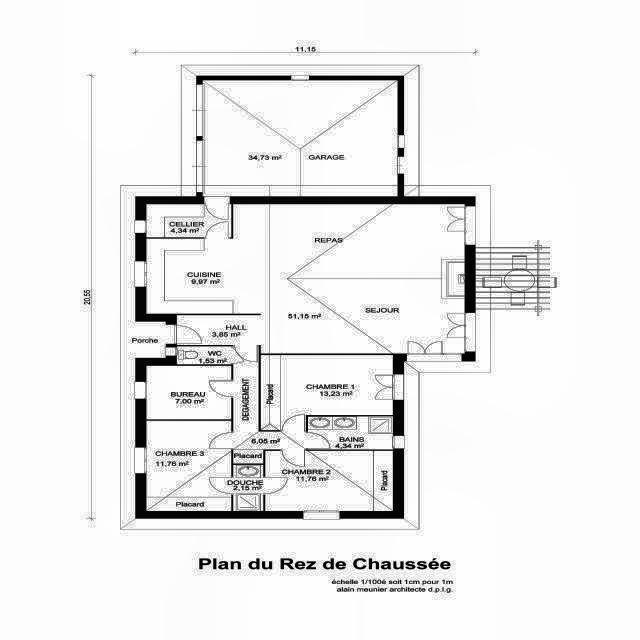room: (146, 203, 465, 354), (203, 80, 398, 196), (261, 355, 394, 430), (233, 346, 306, 464), (265, 451, 393, 511), (147, 421, 231, 511), (147, 366, 231, 419), (308, 417, 393, 450), (147, 204, 231, 237), (234, 465, 263, 511), (177, 346, 231, 364)
